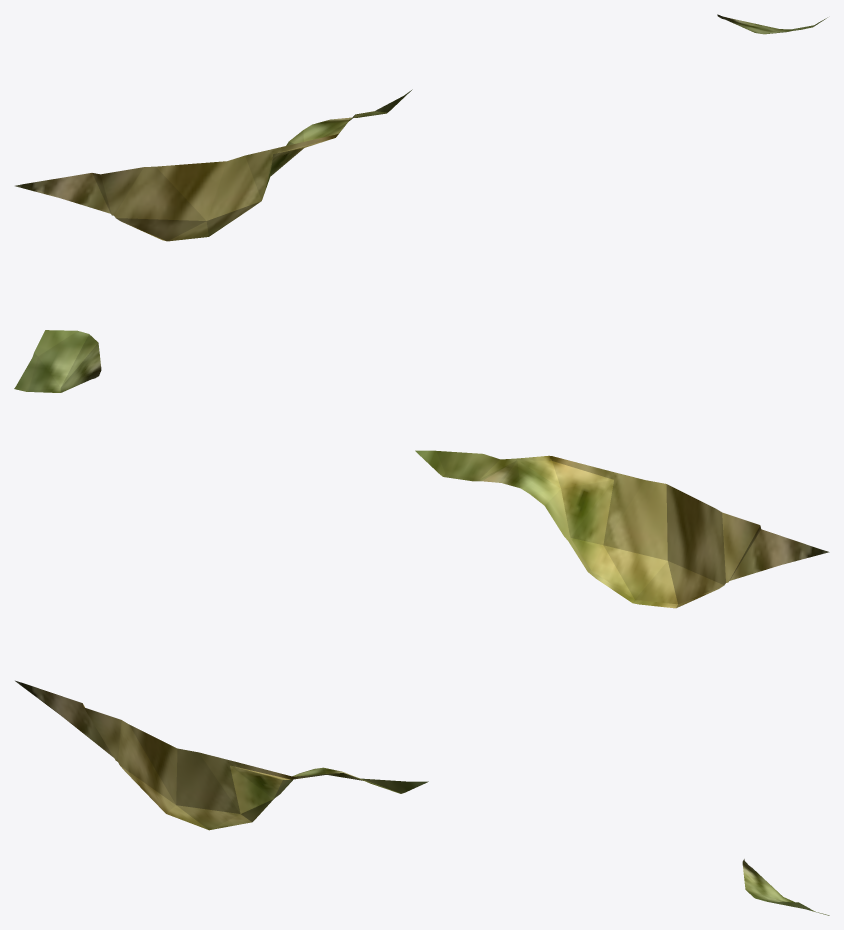
The picture shows the model from 3 angles, top to bottom: view 1: azimuth 30°, elevation 25°; view 2: azimuth 150°, elevation 25°; view 3: azimuth 330°, elevation 25°; orthographic projection. The views are drawn at different scales.
Size of the model in its own units: 2.92 by 0.5253 by 0.24.
1 material, 1 textured.
